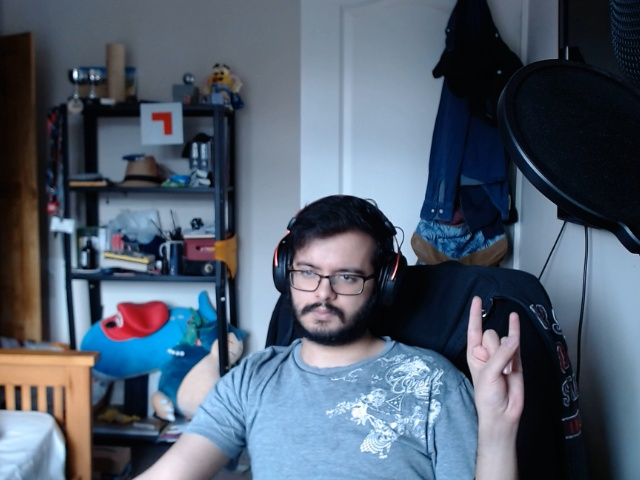Rock on: (464, 287, 528, 427)
